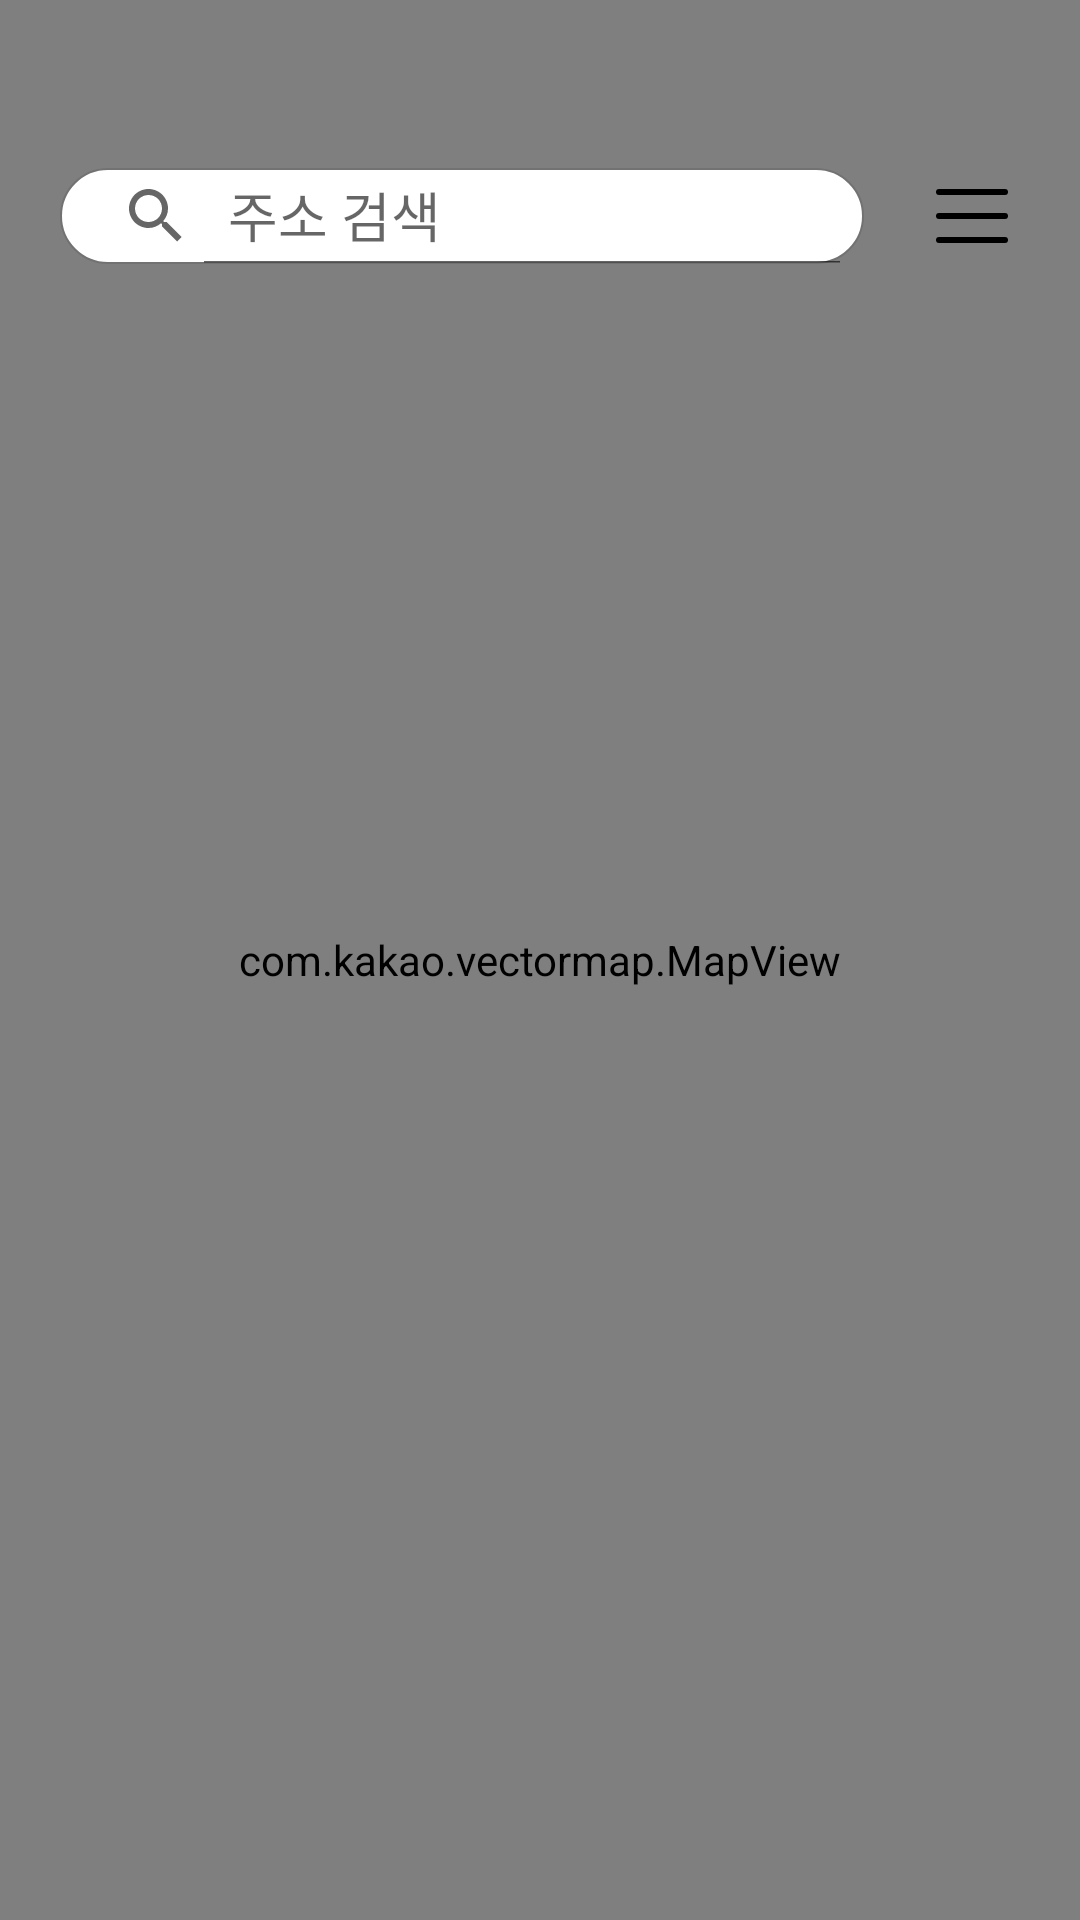

Screen size 1080x1920. Icon name, then its center in pixels as point (x, y):
list: point (972, 216)
